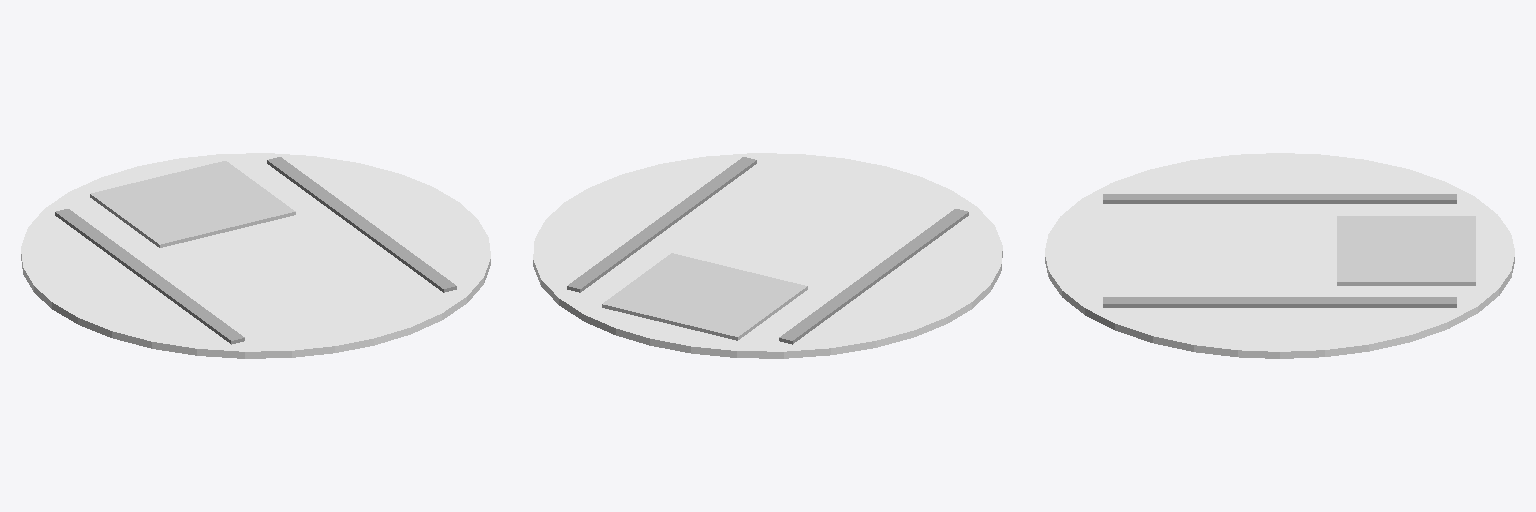
File: Sanitary_Mirrors_Alterna_Bliss-Mirrors.obj
The picture shows the model from 3 angles: view 1: azimuth 30°, elevation 25°; view 2: azimuth 150°, elevation 25°; view 3: azimuth 270°, elevation 25°; orthographic projection.
Parts seen in each view (by area): view 1: default; view 2: default; view 3: default.
Boxes of the visible parts, x1=… form: default: x1=21, y1=153, x2=490, y2=358; default: x1=533, y1=153, x2=1002, y2=358; default: x1=1045, y1=153, x2=1514, y2=358.
Size of the model in its own units: 600 by 20 by 600.